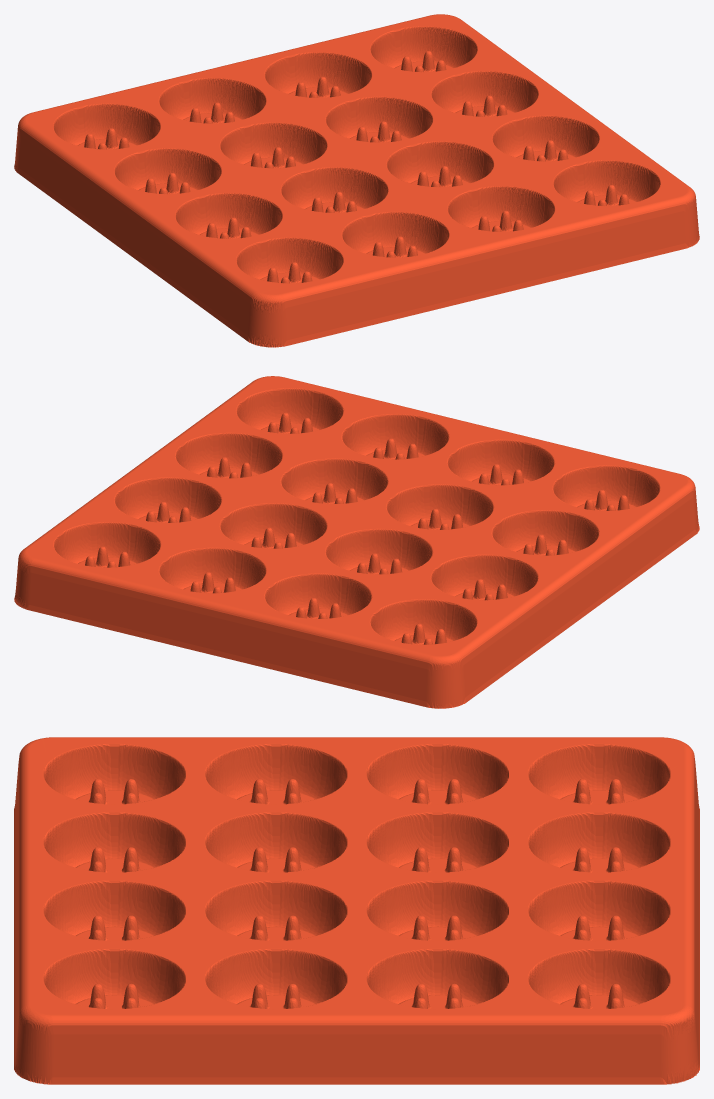
Rendered from mold.glb.
3 renders of one model, top to bottom at view 1: azimuth 30°, elevation 25°; view 2: azimuth 150°, elevation 25°; view 3: azimuth 270°, elevation 25°, orthographic. The views are drawn at different scales.
Visible parts, largest first — view 1: geometry_0; view 2: geometry_0; view 3: geometry_0.
Part boxes in pixels (bbox=[...]): geometry_0: bbox=[14, 14, 699, 347]; geometry_0: bbox=[14, 376, 699, 708]; geometry_0: bbox=[14, 737, 699, 1084].
Bounding box in the file's own units: 0.1569 × 0.0159 × 0.1569.
